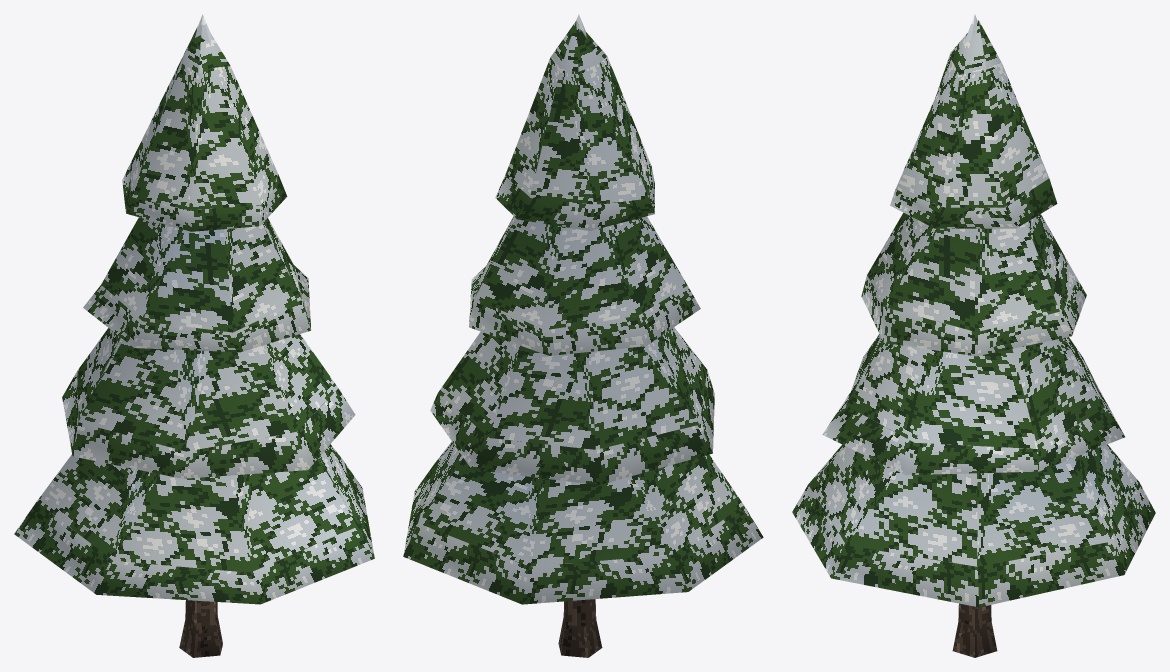
File: mnat.pine__snowy.glb
The picture shows the model from 3 angles, left to right: view 1: azimuth 30°, elevation 25°; view 2: azimuth 150°, elevation 25°; view 3: azimuth 270°, elevation 25°; orthographic projection.
Parts seen in each view (by area): view 1: kit_tiers, kit_trunk; view 2: kit_tiers, kit_trunk; view 3: kit_tiers, kit_trunk.
Boxes of the visible parts, x1,y1,x2,y2 form: kit_tiers: [14, 26, 374, 604]; kit_trunk: [179, 600, 222, 657]; kit_tiers: [403, 21, 763, 604]; kit_trunk: [558, 599, 602, 657]; kit_tiers: [792, 20, 1155, 607]; kit_trunk: [952, 603, 997, 657].
Bounding box in the file's own units: 4.52 × 8.82 × 4.59.
3 materials, 3 textured.
